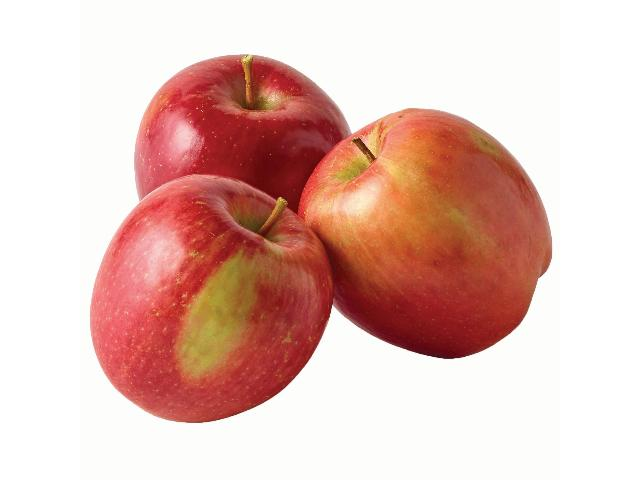red apple: (297, 109, 554, 359), (93, 174, 336, 422), (134, 55, 357, 280)
